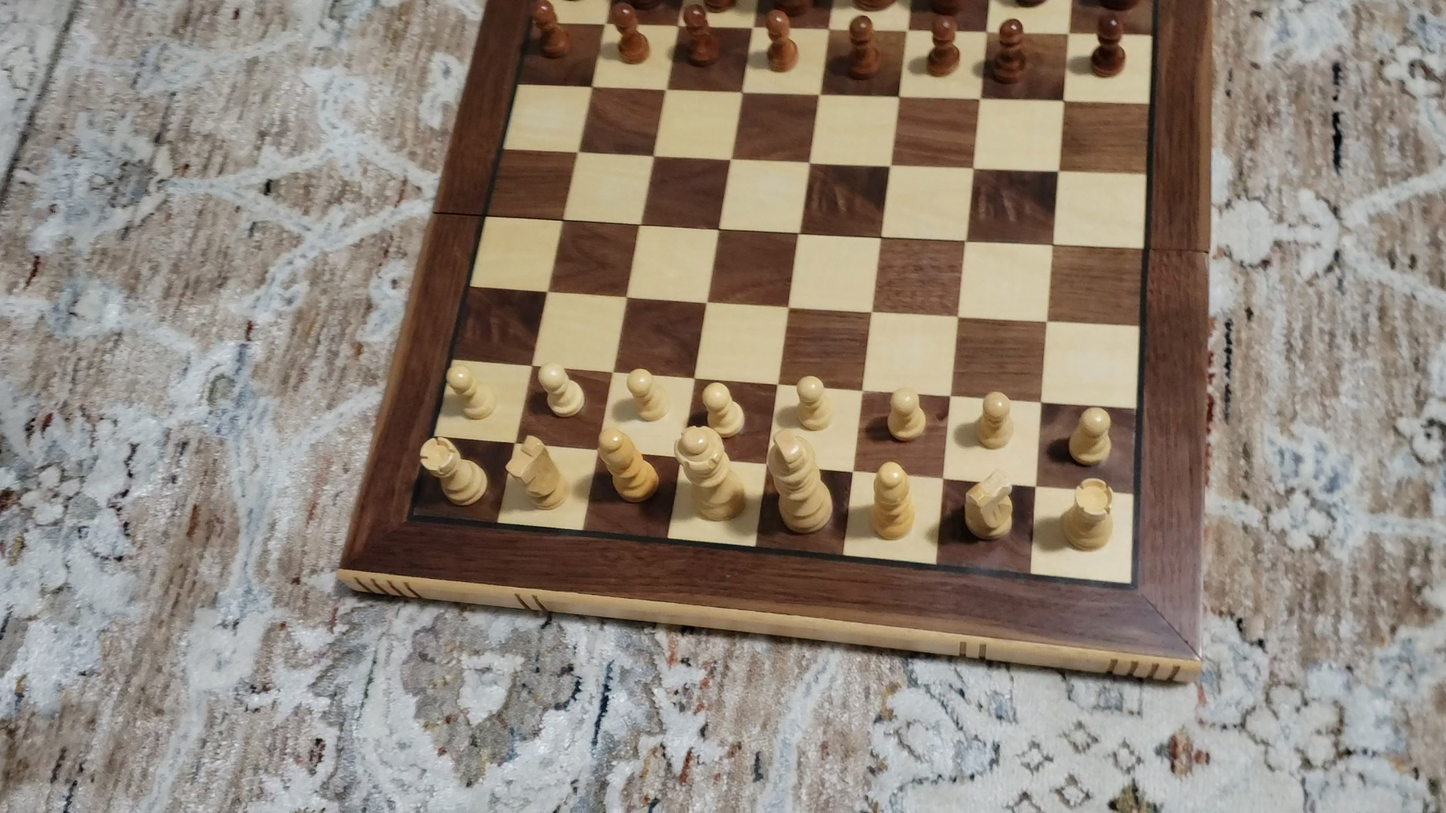black-pawn: (988, 16, 1027, 87), (1090, 10, 1129, 80), (680, 1, 718, 68), (529, 0, 570, 62), (611, 0, 648, 65), (927, 12, 962, 78), (764, 7, 799, 73), (846, 13, 879, 81)
white-bishop: (595, 427, 660, 506), (867, 458, 918, 544)
white-king: (766, 435, 835, 537)
white-knight: (503, 433, 572, 514), (960, 467, 1017, 544)
white-pawn: (443, 362, 498, 423), (1065, 403, 1115, 470), (535, 360, 589, 420), (698, 379, 747, 440), (973, 387, 1017, 452), (883, 387, 930, 445), (623, 364, 666, 423), (792, 373, 833, 434)
white-queen: (672, 426, 749, 526)
white-rook: (418, 434, 489, 508), (1057, 475, 1116, 556)
